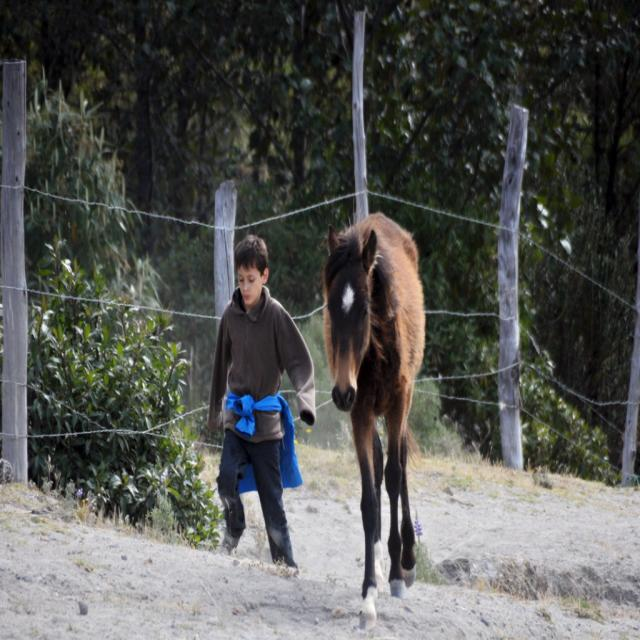Horse: (322, 210, 427, 636)
